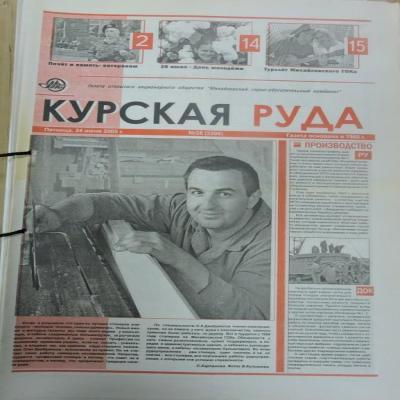printed_products: (4, 0, 400, 400)
